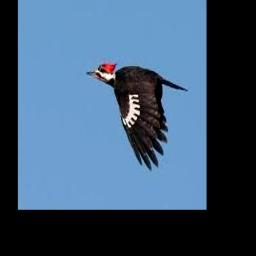Woodpecker: (88, 63, 188, 170)
